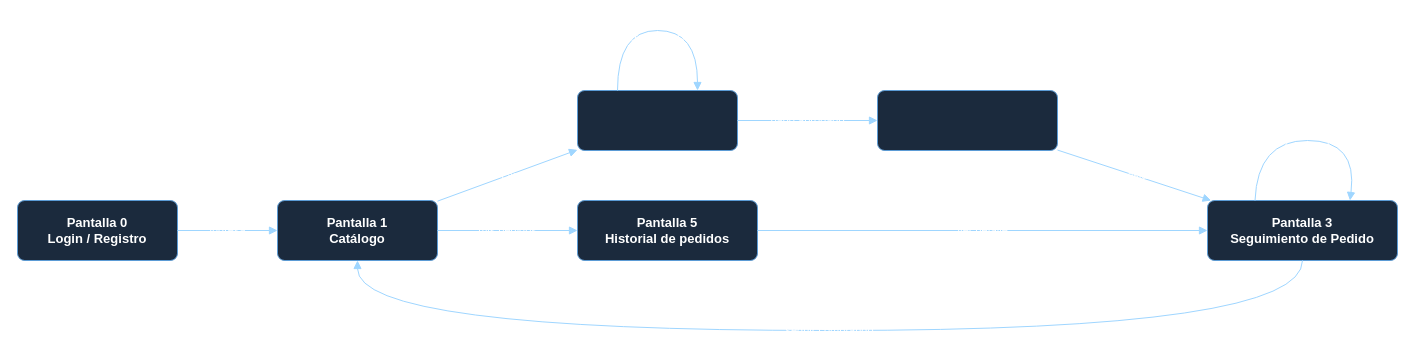
Some shapes in this 1415 by 354 pixel diagram are drawn without their labels. The shapes that lost their labels are listed below. From the top down, each one's box as (x1, y1, x2, y2) in pixels, then its label:
(576, 90, 738, 150): Pantalla 2 Carrito y Pago
(876, 90, 1058, 150): Pantalla 4 Confirmación de pago
